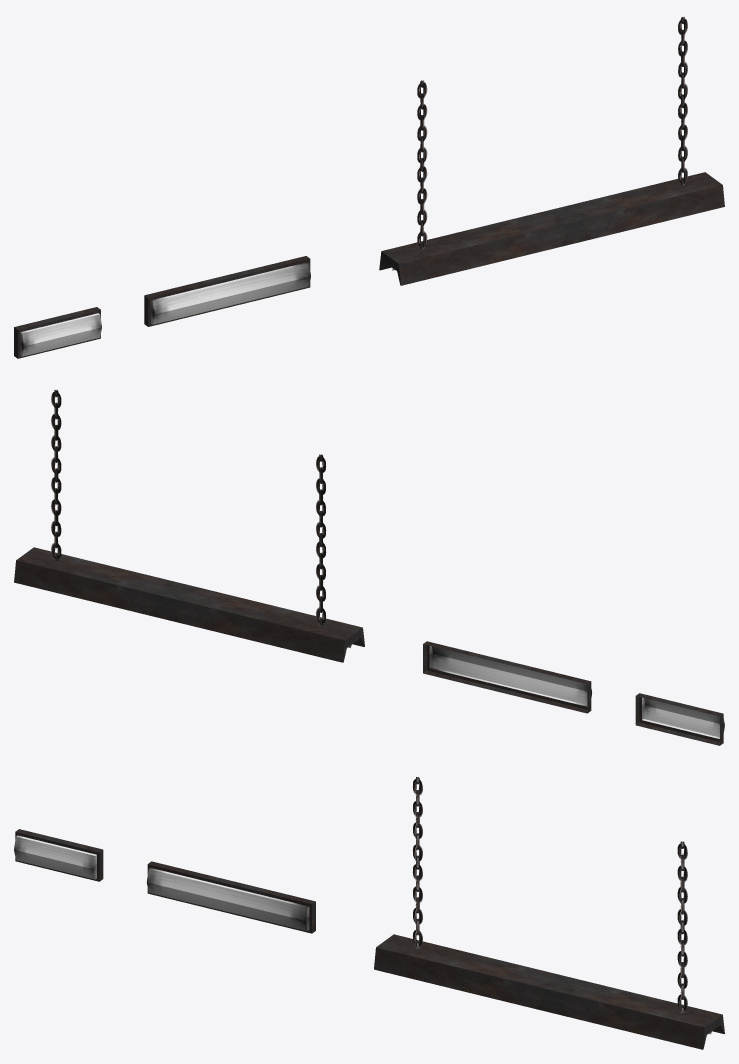
Rendered from Lights.fbx.
3 renders of one model, top to bottom at view 1: azimuth 30°, elevation 25°; view 2: azimuth 150°, elevation 25°; view 3: azimuth 330°, elevation 25°, orthographic.
Visible parts, largest first — view 1: Prop_CeilingLight, Prop_WallLight_Large, Prop_WallLight_Small; view 2: Prop_CeilingLight, Prop_WallLight_Large, Prop_WallLight_Small; view 3: Prop_CeilingLight, Prop_WallLight_Large, Prop_WallLight_Small.
Boxes of the visible parts, x1,y1,x2,y2 form: Prop_CeilingLight: (379,16,724,285); Prop_WallLight_Large: (144,256,310,326); Prop_WallLight_Small: (14,307,101,358); Prop_CeilingLight: (14,389,364,662); Prop_WallLight_Large: (423,641,592,713); Prop_WallLight_Small: (635,693,724,745); Prop_CeilingLight: (374,777,724,1049); Prop_WallLight_Large: (146,861,315,933); Prop_WallLight_Small: (14,829,103,881).
Bounding box in the file's own units: 427 × 112 × 23.23.
